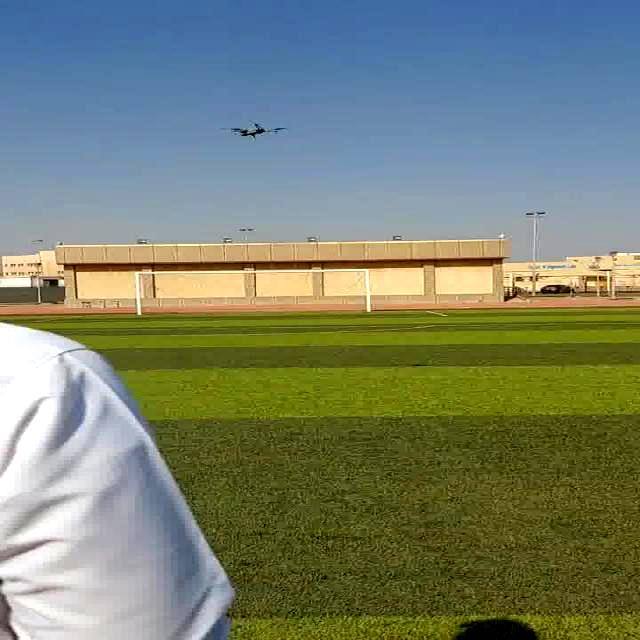drone: (216, 116, 286, 140)
